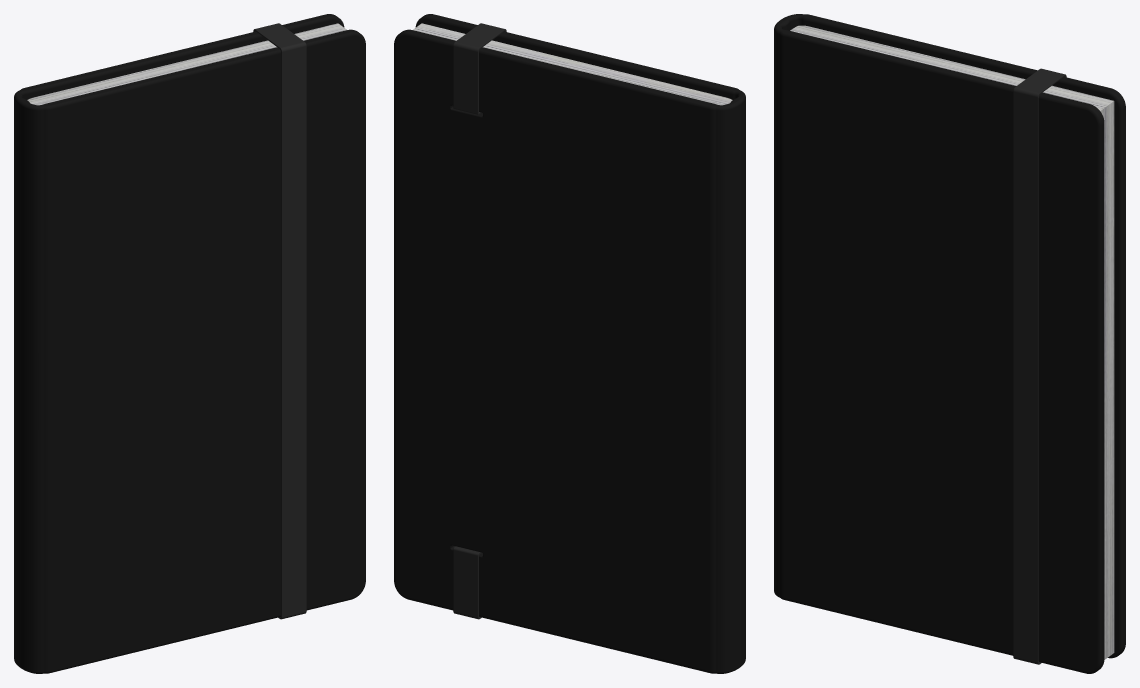
The model's file is libreta090823-1.glb.
The picture shows the model from 3 angles, left to right: view 1: azimuth 30°, elevation 25°; view 2: azimuth 150°, elevation 25°; view 3: azimuth 330°, elevation 25°; orthographic projection.
Parts seen in each view (by area): view 1: Front(78DF5E49-7C38-4F8F-A4C5-0D7C24FFB800), Elástico(3DC1EE99-2D33-4495-8223-4BAA1260D758), Front(077A05E9-2BD8-4B62-9B01-3387C604942A), Hojas(A52FF521-4CE0-45A5-BBB4-5174DAD361D2); view 2: Front(077A05E9-2BD8-4B62-9B01-3387C604942A), Front(78DF5E49-7C38-4F8F-A4C5-0D7C24FFB800), Elástico(3DC1EE99-2D33-4495-8223-4BAA1260D758), Hojas(A52FF521-4CE0-45A5-BBB4-5174DAD361D2); view 3: Front(78DF5E49-7C38-4F8F-A4C5-0D7C24FFB800), Elástico(3DC1EE99-2D33-4495-8223-4BAA1260D758), Front(077A05E9-2BD8-4B62-9B01-3387C604942A), Hojas(A52FF521-4CE0-45A5-BBB4-5174DAD361D2).
Boxes of the visible parts, x1=… form: Front(78DF5E49-7C38-4F8F-A4C5-0D7C24FFB800): x1=14, y1=29, x2=365, y2=673; Elástico(3DC1EE99-2D33-4495-8223-4BAA1260D758): x1=253, y1=23, x2=306, y2=619; Front(077A05E9-2BD8-4B62-9B01-3387C604942A): x1=25, y1=14, x2=344, y2=98; Hojas(A52FF521-4CE0-45A5-BBB4-5174DAD361D2): x1=27, y1=23, x2=346, y2=105; Front(077A05E9-2BD8-4B62-9B01-3387C604942A): x1=394, y1=29, x2=712, y2=672; Front(78DF5E49-7C38-4F8F-A4C5-0D7C24FFB800): x1=415, y1=14, x2=745, y2=673; Elástico(3DC1EE99-2D33-4495-8223-4BAA1260D758): x1=453, y1=23, x2=506, y2=619; Hojas(A52FF521-4CE0-45A5-BBB4-5174DAD361D2): x1=413, y1=23, x2=732, y2=105; Front(78DF5E49-7C38-4F8F-A4C5-0D7C24FFB800): x1=774, y1=14, x2=1104, y2=673; Elástico(3DC1EE99-2D33-4495-8223-4BAA1260D758): x1=1013, y1=68, x2=1066, y2=664; Front(077A05E9-2BD8-4B62-9B01-3387C604942A): x1=805, y1=14, x2=1125, y2=658; Hojas(A52FF521-4CE0-45A5-BBB4-5174DAD361D2): x1=790, y1=25, x2=1114, y2=659.
Size of the model in its own units: 0.1079 by 0.1761 by 0.016.
Materials: 3 (1 with a texture image).
